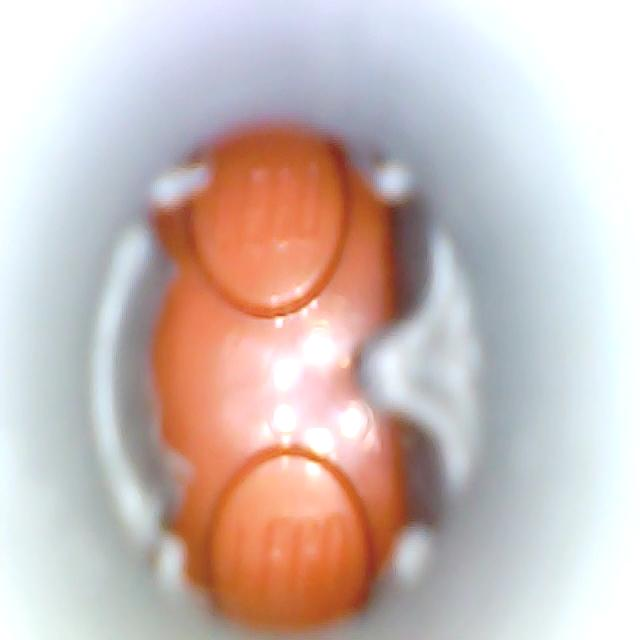studs: (189, 128, 347, 316), (210, 452, 369, 623)
